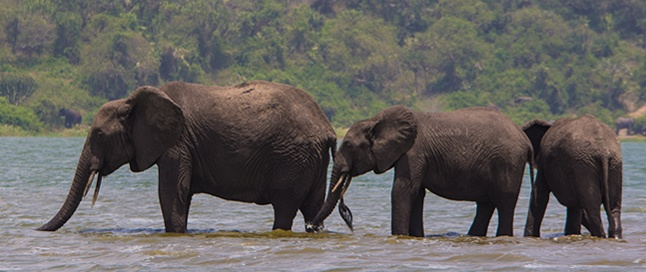elephant: (33, 70, 356, 236), (302, 103, 542, 241), (520, 107, 630, 241)
